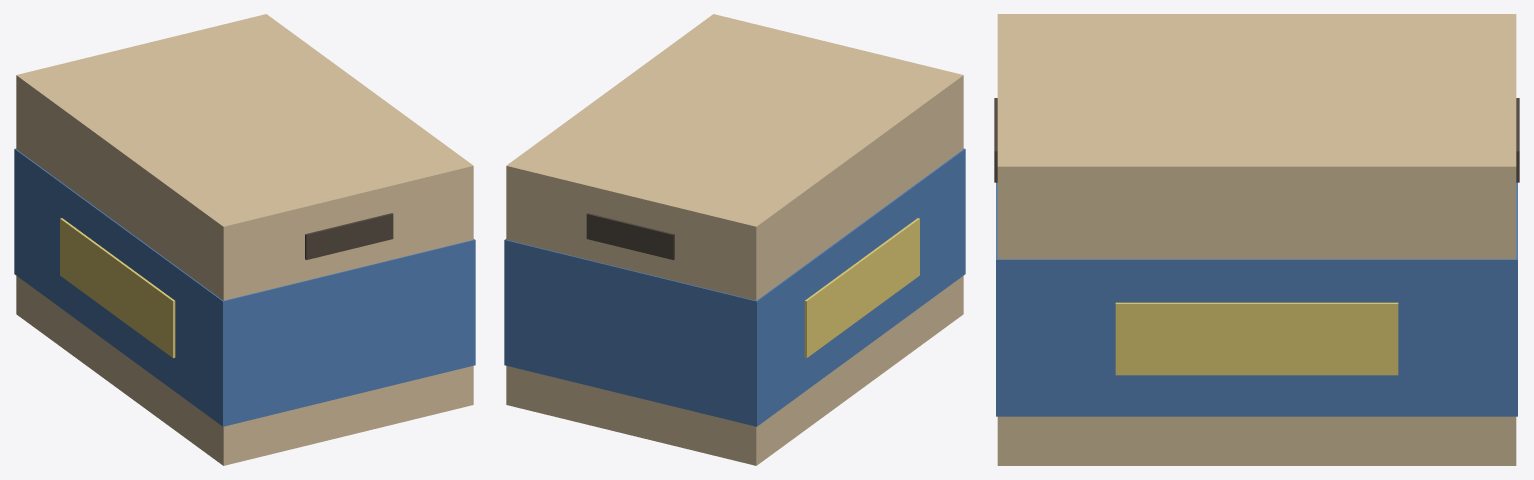
File: dm_beercase.glb
3 renders of one model, left to right at view 1: azimuth 30°, elevation 25°; view 2: azimuth 150°, elevation 25°; view 3: azimuth 270°, elevation 25°, orthographic. The views are drawn at different scales.
Parts seen in each view (by area): view 1: dm_beercase; view 2: dm_beercase; view 3: dm_beercase.
Part boxes in pixels (x1=…): dm_beercase: x1=14, y1=14, x2=475, y2=465; dm_beercase: x1=504, y1=14, x2=965, y2=465; dm_beercase: x1=994, y1=14, x2=1519, y2=465.
Bounding box in the file's own units: 0.236 × 0.21 × 0.334.
